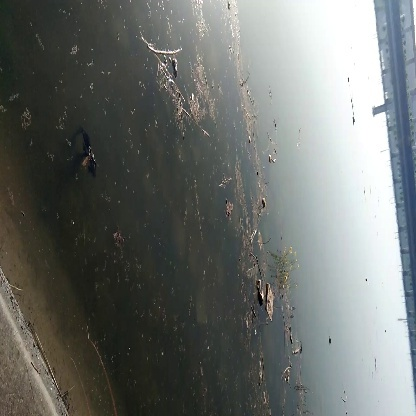plastic-garbage: (251, 270, 282, 327)
